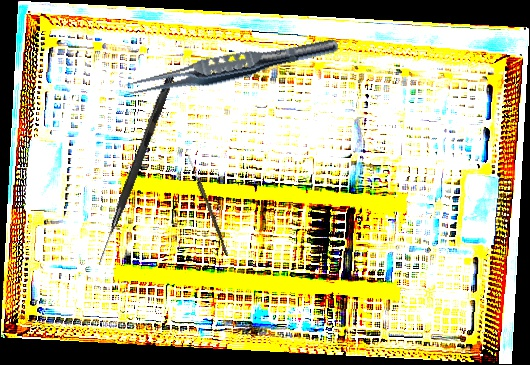Hook Surgical: (95, 73, 175, 267)
Surgical Spoon: (185, 154, 231, 257)
Tissue Forceps: (121, 28, 341, 106)
